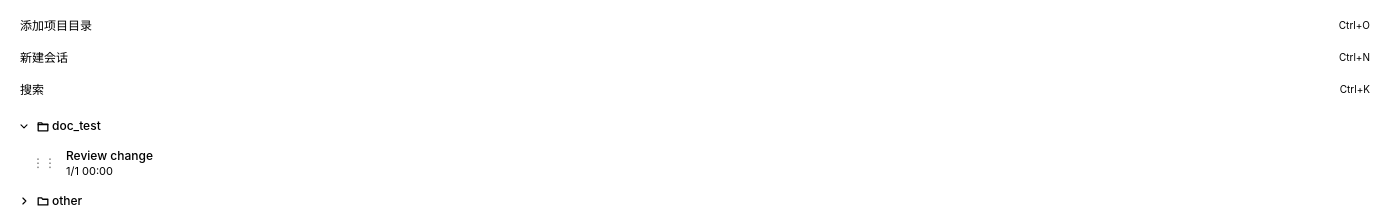
it: ProjectSessionTree › toggles active project sessions when clicking project header
Expected: the text "Review change" is shown, [66,148,153,163]
Click the button "doc_test" at (76, 126), box [12,112,1336,140]
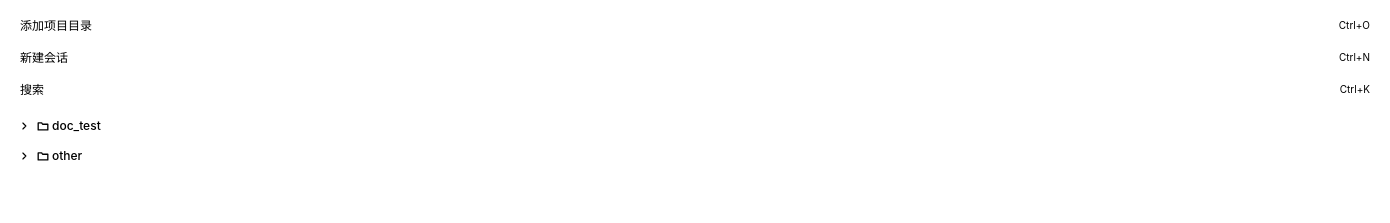
Expected: the button "Review change" is gone
Click the button "doc_test" at (76, 126), box [12,112,1336,140]
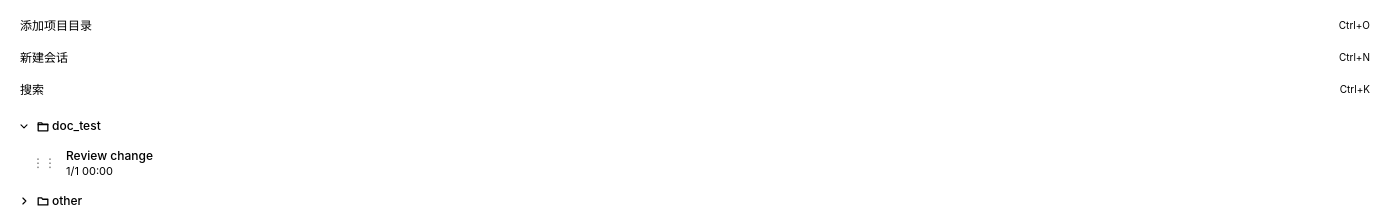
Expected: the text "Review change" is shown, [66,148,153,163]
